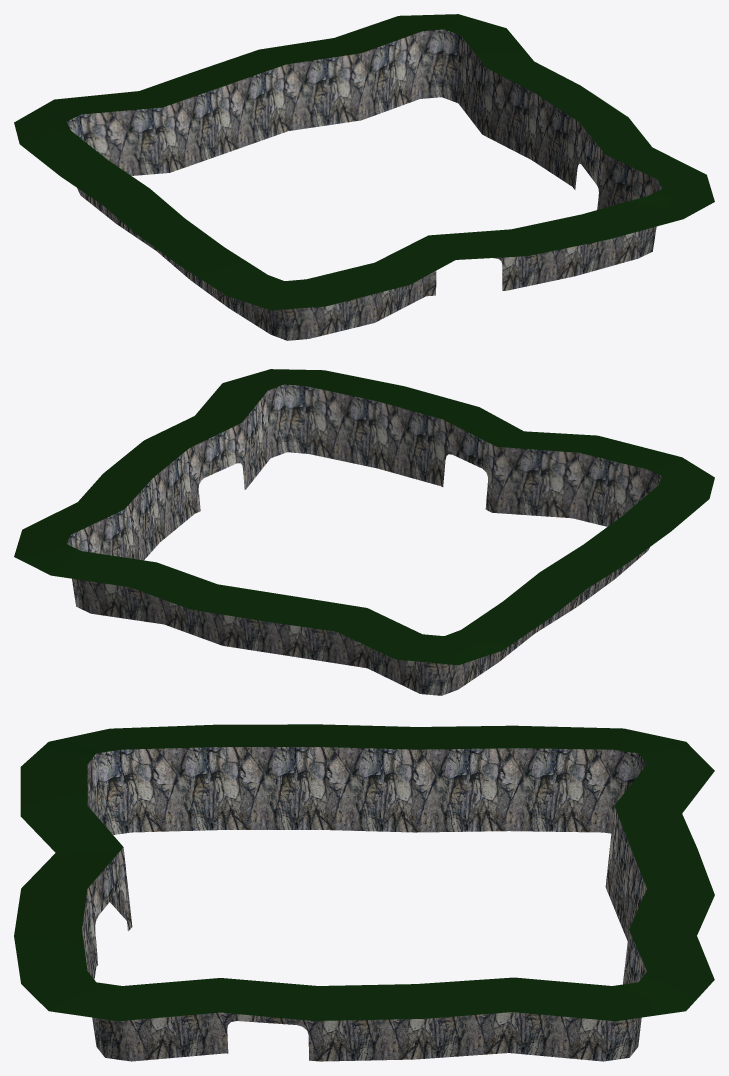
File: demo_cliff_fence.dae
The picture shows the model from 3 angles, top to bottom: view 1: azimuth 30°, elevation 25°; view 2: azimuth 150°, elevation 25°; view 3: azimuth 270°, elevation 25°; orthographic projection. The views are drawn at different scales.
Visible parts, largest first — view 1: cliff; view 2: cliff; view 3: cliff.
Part boxes in pixels (x1,y1,x2,y2): cliff: (14, 14, 714, 340); cliff: (14, 369, 714, 695); cliff: (14, 724, 714, 1061).
Size of the model in its own units: 80.24 by 80.2 by 10.
